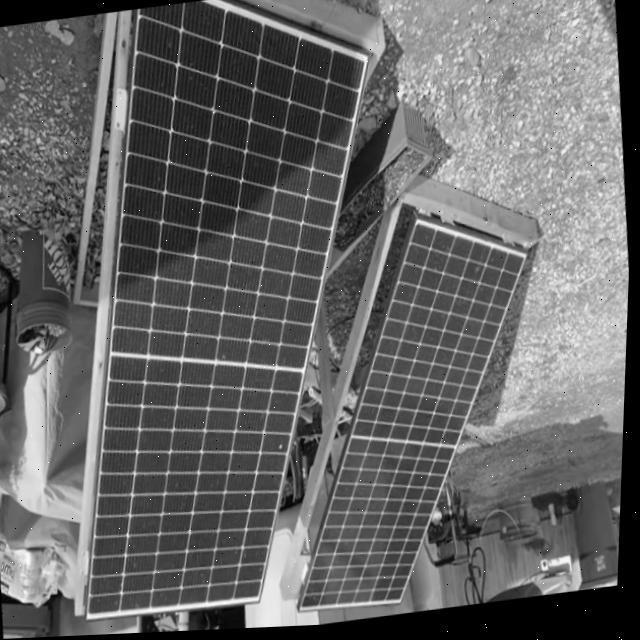Normal Solar Panel: (39, 0, 415, 626), (272, 205, 558, 617)
